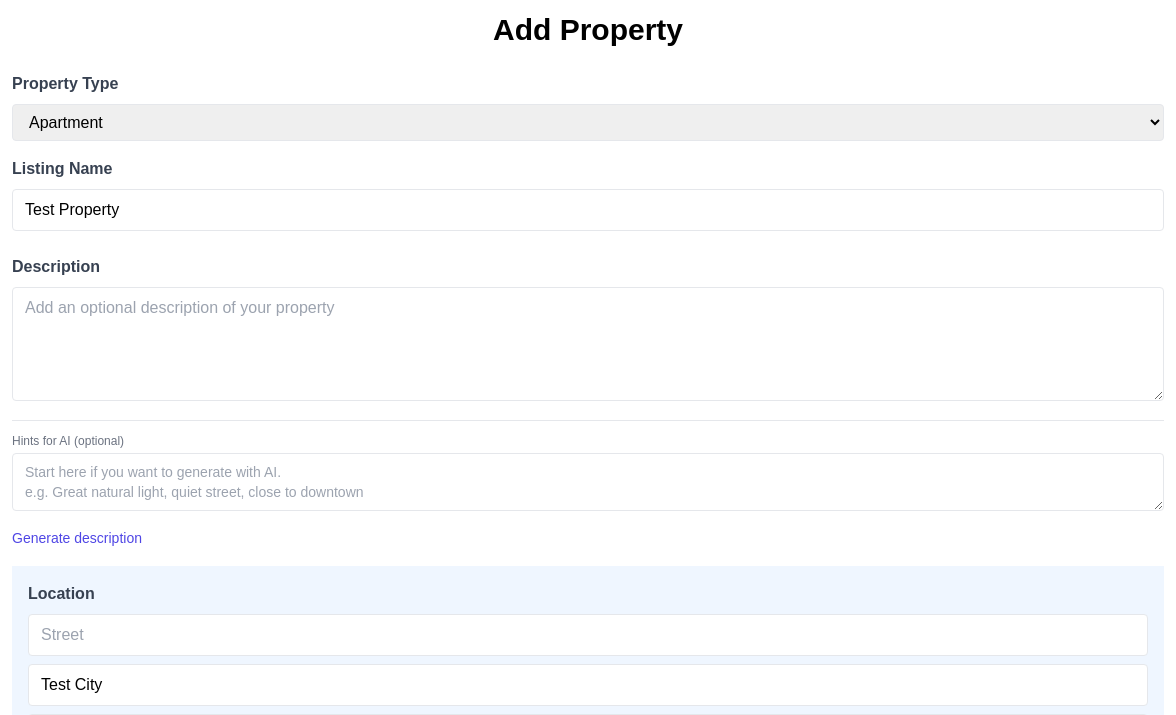
PropertyAddForm — AI generate description › fills Listing Name and Description on successful AI response
Step 1. Click the button "Generate description" → [77, 538], box [12, 528, 142, 548]
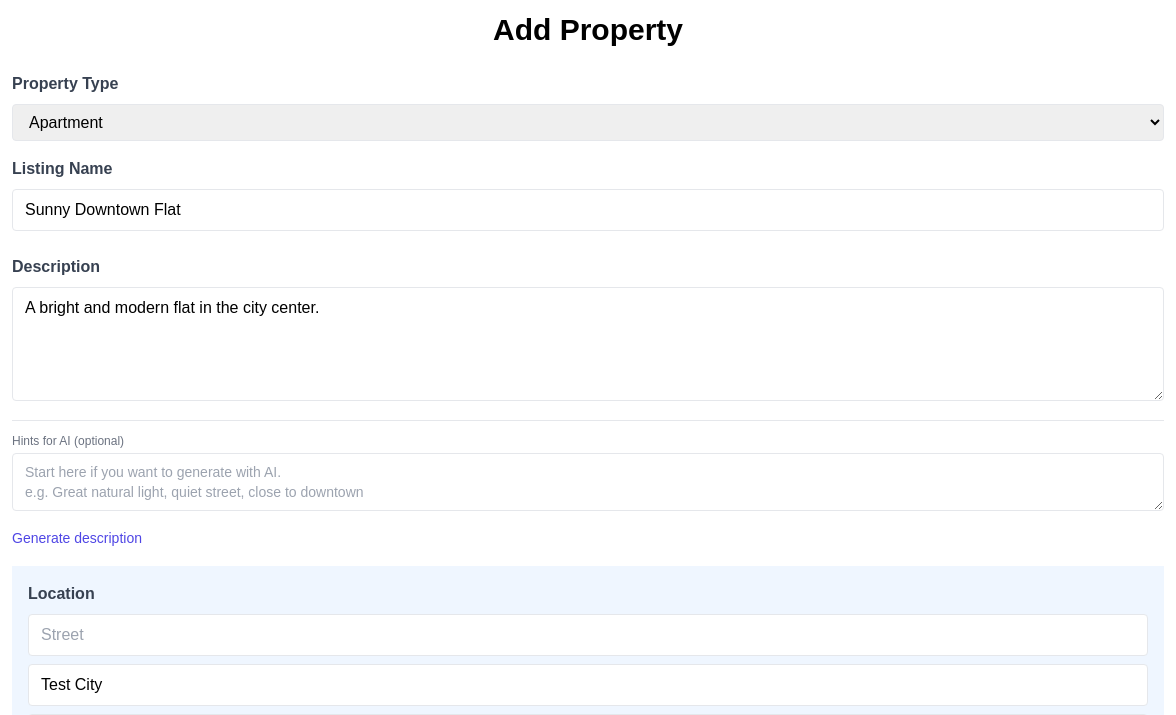
Now the field showing "Sunny Downtown Flat" below "Listing Name" is shown, box [12, 189, 1164, 231]
Now the text box showing "A bright and modern flat in the city center." is shown, box [12, 287, 1164, 401]
